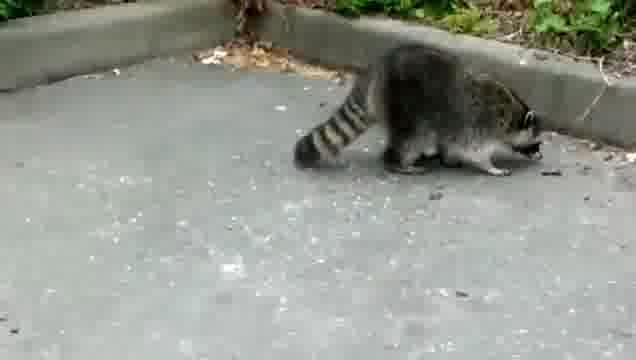raccoon: (290, 44, 550, 185)
